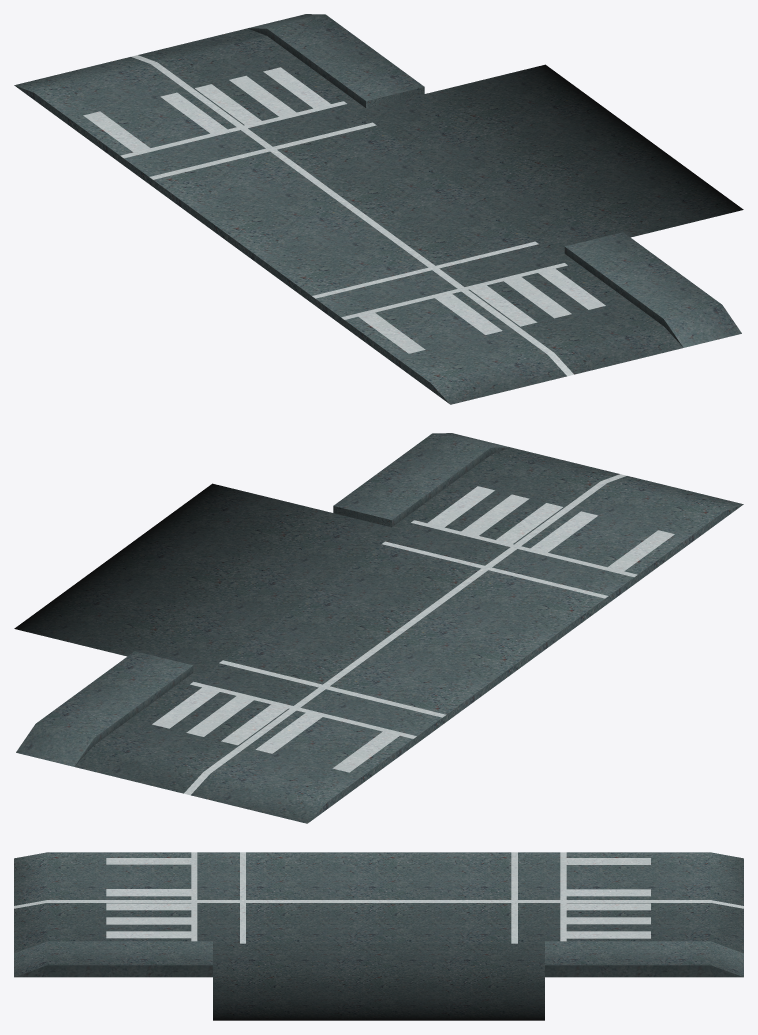
The model's file is ROMEN_LEFT01.glb.
The picture shows the model from 3 angles, top to bottom: view 1: azimuth 30°, elevation 25°; view 2: azimuth 150°, elevation 25°; view 3: azimuth 270°, elevation 25°; orthographic projection. The views are drawn at different scales.
Visible parts, largest first — view 1: Model; view 2: Model; view 3: Model.
Part boxes in pixels (x1,y1,x2,y2): Model: (14, 14, 743, 404); Model: (14, 433, 743, 823); Model: (14, 852, 743, 1020).
Bounding box in the file's own units: 60 × 2 × 110.
2 materials, 2 textured.
